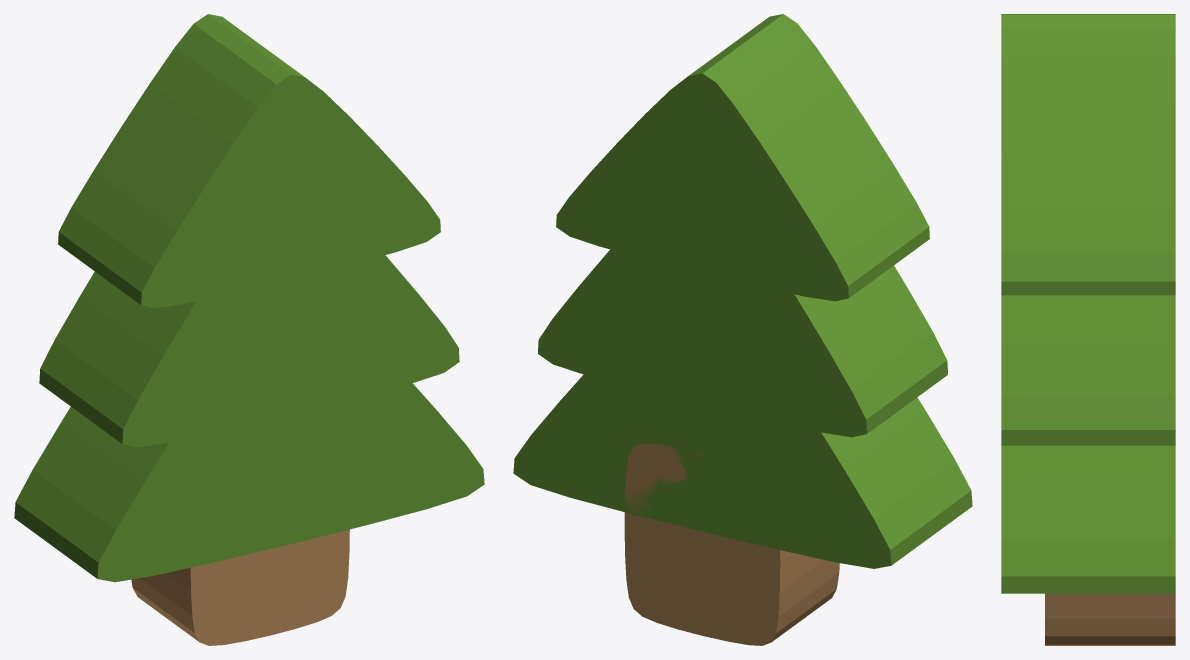
Rendered from tree.glb.
3 views of the same model, side by side, from view 1: azimuth 30°, elevation 25°; view 2: azimuth 150°, elevation 25°; view 3: azimuth 270°, elevation 25° (orthographic). The views are drawn at different scales.
Parts seen in each view (by area): view 1: Plane.031, Plane.032; view 2: Plane.031, Plane.032; view 3: Plane.031, Plane.032.
Boxes of the visible parts, left/top/right/bottom form: Plane.031: left=14, top=14, right=484, bottom=582; Plane.032: left=131, top=529, right=349, bottom=645; Plane.031: left=513, top=14, right=972, bottom=568; Plane.032: left=624, top=443, right=839, bottom=645; Plane.031: left=1001, top=14, right=1175, bottom=593; Plane.032: left=1045, top=593, right=1175, bottom=645.
Bounding box in the file's own units: 10.76 × 15.3 × 4.
